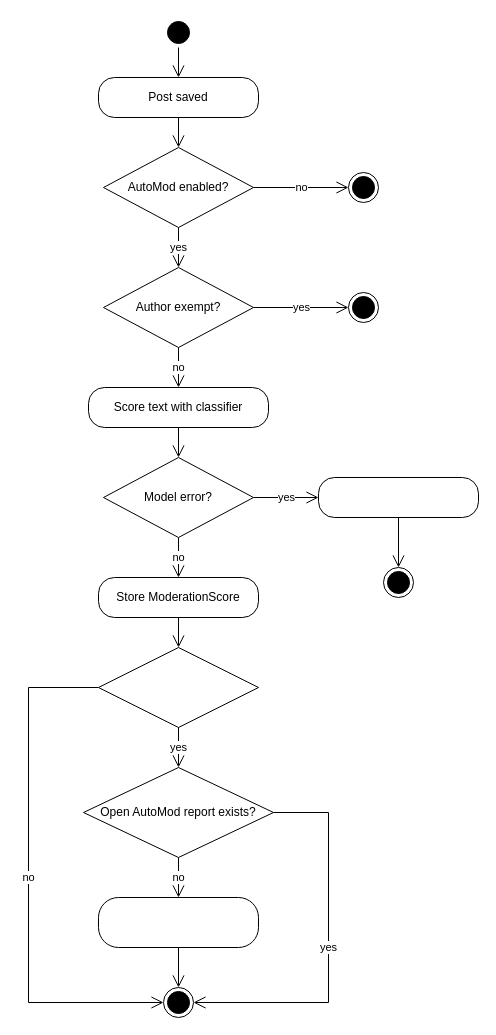
The diagram is 496 pixels wide and 1035 high, and some of its shapes have lost their labels. The centre of each missing label's shape, as x and y in pixels:
"Create Report (reporter = AutoMod)" goes at point 178,922.
"Log error (fail-open)" goes at point 398,497.
"score >= threshold?" goes at point 178,687.
